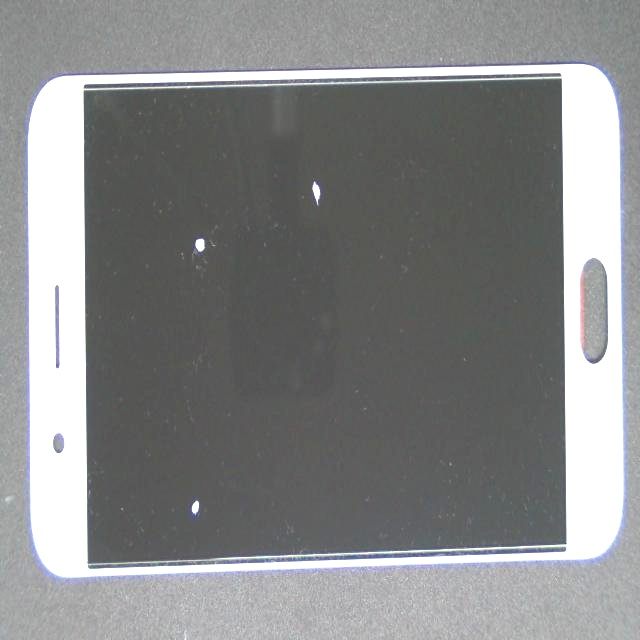stain: (118, 271, 311, 640), (184, 110, 498, 270), (127, 149, 318, 349)
